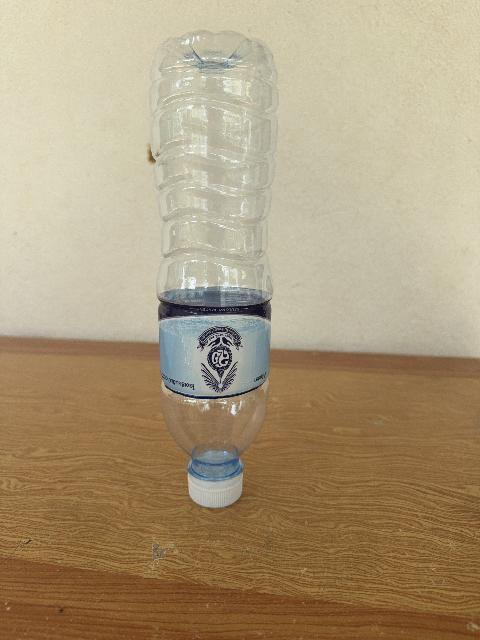bottle: (150, 32, 277, 507)
